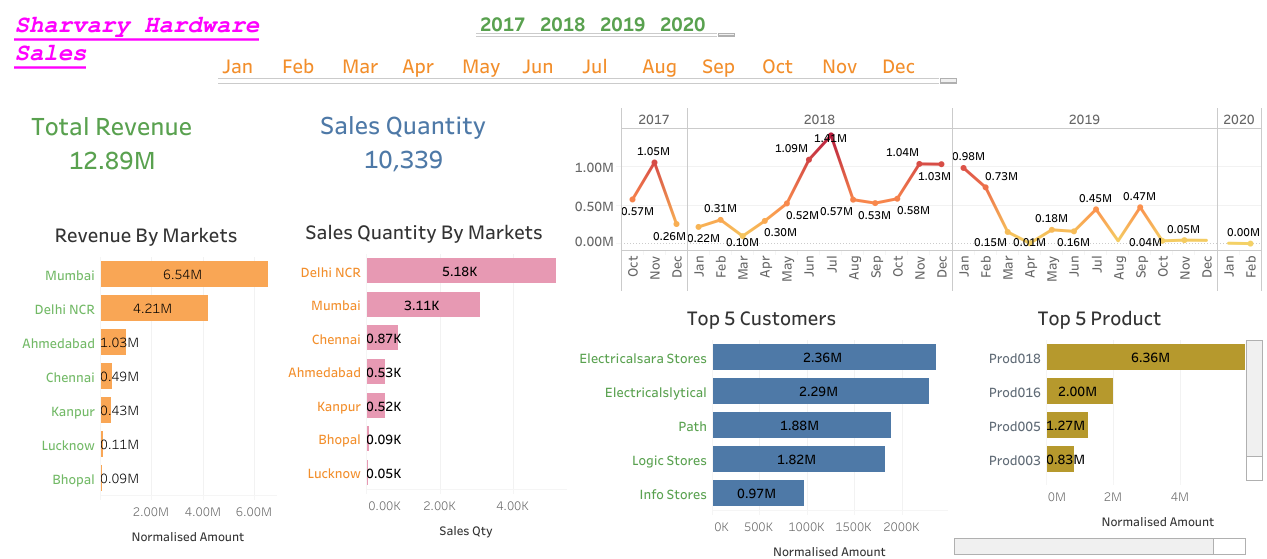

Layout of this report page (visuals, bound fields, positions):
{"tool":"tableau","page":{"name":"Sharvary Hardware Sales","canvas":[1000,1000],"units":"permille","ordinal":0},"visuals":[{"type":"worksheet","box":[0,0,1000,1000]},{"type":"worksheet","param":"vert","box":[7.1,14.3,985.8,971.4]},{"type":"worksheet","box":[7.1,14.3,985.8,125]},{"type":"worksheet","title":"Month","mark":"Automatic","cols":["cy_date"],"box":[171.7,67.9,664.6,82.1]},{"type":"worksheet","box":[7.1,139.3,985.8,846.4]},{"type":"worksheet","title":"Quantity","mark":"Automatic","box":[230.8,164.3,205.7,173.2]},{"type":"worksheet","title":"Revenue By Year","mark":"Automatic","rows":["Calculation_362821290438483968"],"cols":["cy_date","cy_date"],"box":[452.8,165.3,542.4,354.1]},{"type":"worksheet","title":"Revenue","mark":"Automatic","box":[0.9,166.1,226.3,191.1]},{"type":"worksheet","title":"Sales Quantity By Markets","mark":"Automatic","rows":["markets_name"],"cols":["sales_qty"],"box":[222.7,378.6,223.6,596.4]},{"type":"worksheet","title":"Top 5 Product","mark":"Automatic","rows":["product_code"],"cols":["Calculation_362821290438483968"],"box":[752,532.9,244,458.7]}]}

Visuals, with their boxes on the dashboard's canvas, which has no fixed pixel size, in thousandths of its width and height (x1, y1, x2, y2). These are canvas units, not pixel positions in the 1267x559 screenshot, which may show the page scaled, cropped or inside an application window:
worksheet: region(0, 0, 1000, 1000)
worksheet: region(7, 14, 993, 986)
worksheet: region(7, 14, 993, 139)
"Month" worksheet: region(172, 68, 836, 150)
worksheet: region(7, 139, 993, 986)
"Quantity" worksheet: region(231, 164, 436, 338)
"Revenue By Year" worksheet: region(453, 165, 995, 519)
"Revenue" worksheet: region(1, 166, 227, 357)
"Sales Quantity By Markets" worksheet: region(223, 379, 446, 975)
"Top 5 Product" worksheet: region(752, 533, 996, 992)
